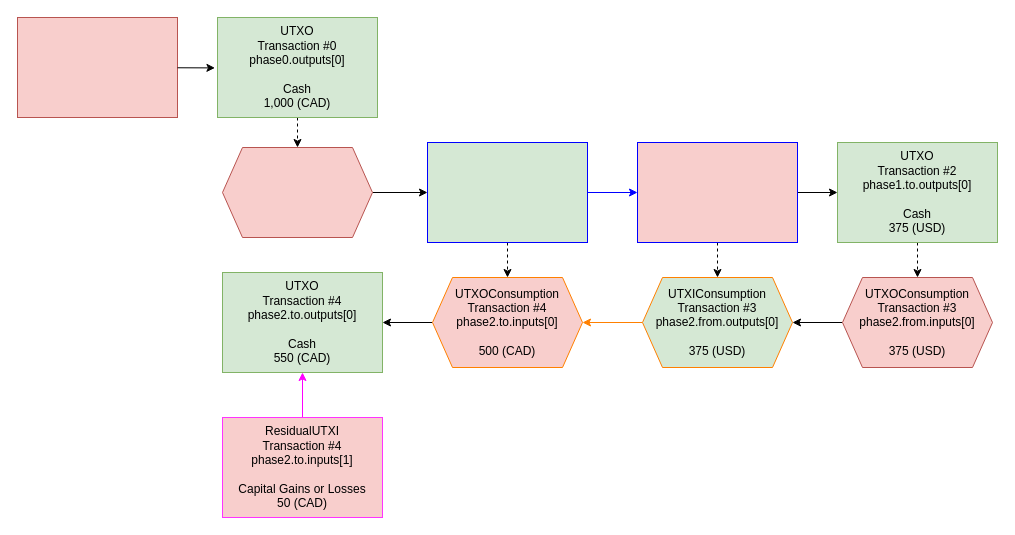
This 1015x535 diagram has some shape labels left out. Each missing label, with the box of its shape:
ExchangedUTXI Transaction #2 phase1.to.inputs[0] Net Transfers 375 (USD): (636, 142, 798, 242)
ExchangedUTXO Transaction #1 phase1.from.outputs[0] Net Transfers 500 (CAD): (426, 142, 588, 242)
UTXI Transaction #0 phase0.inputs[0] Opening Balance 1,000 (CAD): (16, 16, 178, 118)
UTXOConsumption Transaction #1 phase1.from.inputs[0] 500 (CAD): (222, 146, 372, 238)
